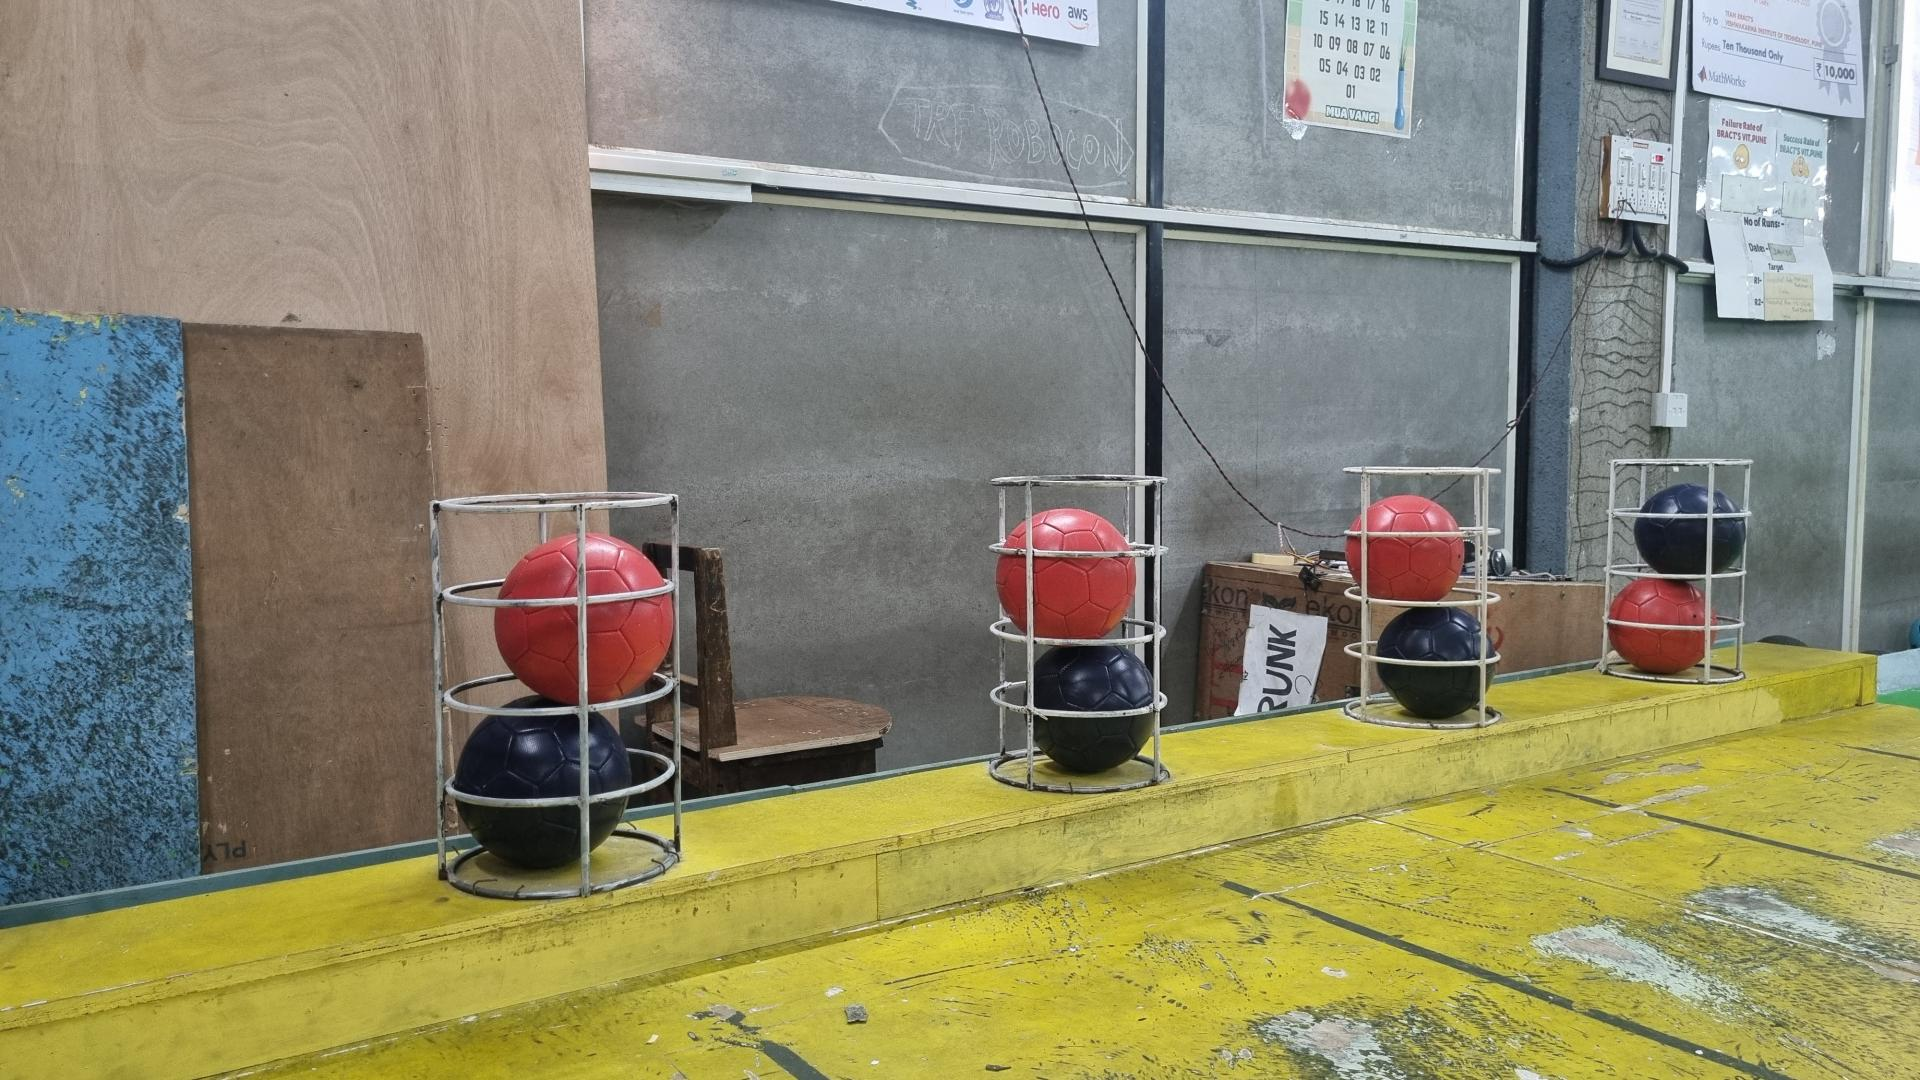dhoka: (450, 696, 634, 869), (1023, 645, 1155, 775), (1377, 607, 1497, 720), (1635, 484, 1747, 578)
laale: (495, 531, 675, 708), (994, 506, 1139, 641), (1346, 495, 1462, 603), (1609, 578, 1717, 674)
